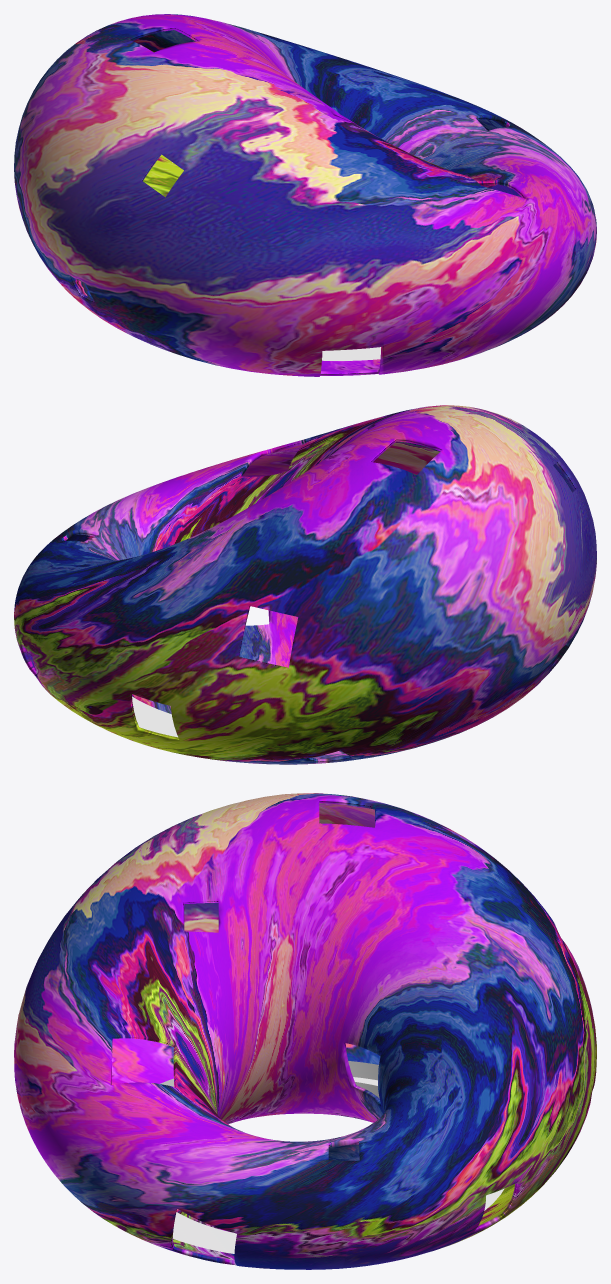
3 renders of one model, top to bottom at view 1: azimuth 30°, elevation 25°; view 2: azimuth 150°, elevation 25°; view 3: azimuth 270°, elevation 25°, orthographic. The views are drawn at different scales.
Visible parts, largest first — view 1: Solids, Ramps_2; view 2: Solids, Ramps_2; view 3: Solids, Ramps_2, Ramps.
Boxes of the visible parts, bbox=[...] form: Solids: bbox=[14, 14, 596, 376]; Ramps_2: bbox=[322, 347, 380, 360]; Solids: bbox=[14, 405, 596, 764]; Ramps_2: bbox=[132, 696, 177, 737]; Solids: bbox=[14, 793, 596, 1269]; Ramps_2: bbox=[173, 1077, 504, 1253]; Ramps: bbox=[160, 1061, 379, 1098].
Size of the model in its own units: 53.51 by 27.9 by 50.7.
2 materials, 2 textured.
